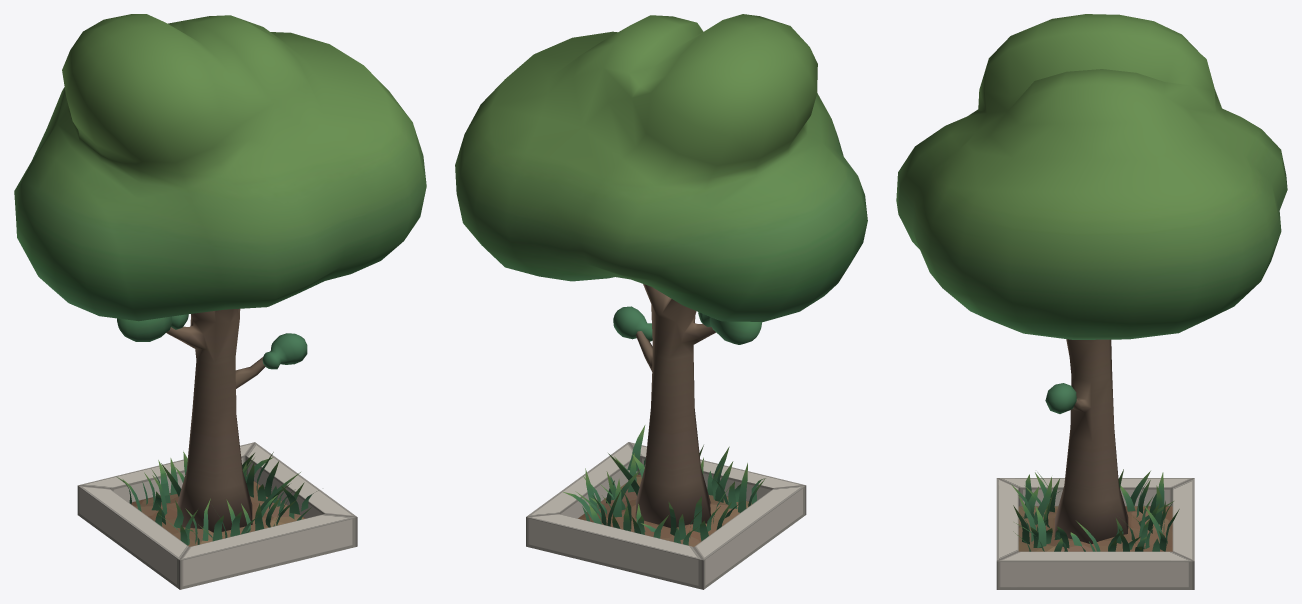
File: Tree_01.FBX
The picture shows the model from 3 angles, left to right: view 1: azimuth 30°, elevation 25°; view 2: azimuth 150°, elevation 25°; view 3: azimuth 270°, elevation 25°; orthographic projection. The views are drawn at different scales.
Visible parts, largest first — view 1: Tree_01; view 2: Tree_01; view 3: Tree_01.
Boxes of the visible parts, left/top/right/bottom form: Tree_01: left=14, top=14, right=426, bottom=589; Tree_01: left=455, top=14, right=867, bottom=589; Tree_01: left=896, top=14, right=1287, bottom=589.
Size of the model in its own units: 65.81 by 66.19 by 92.45.
